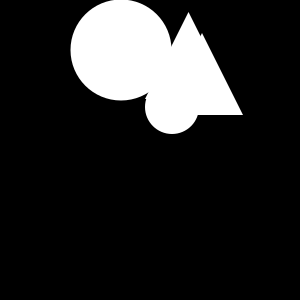rectangle: (70, 0, 172, 100), (145, 80, 199, 134), (122, 38, 154, 72)
triangle: (145, 12, 232, 99), (161, 33, 243, 115)
